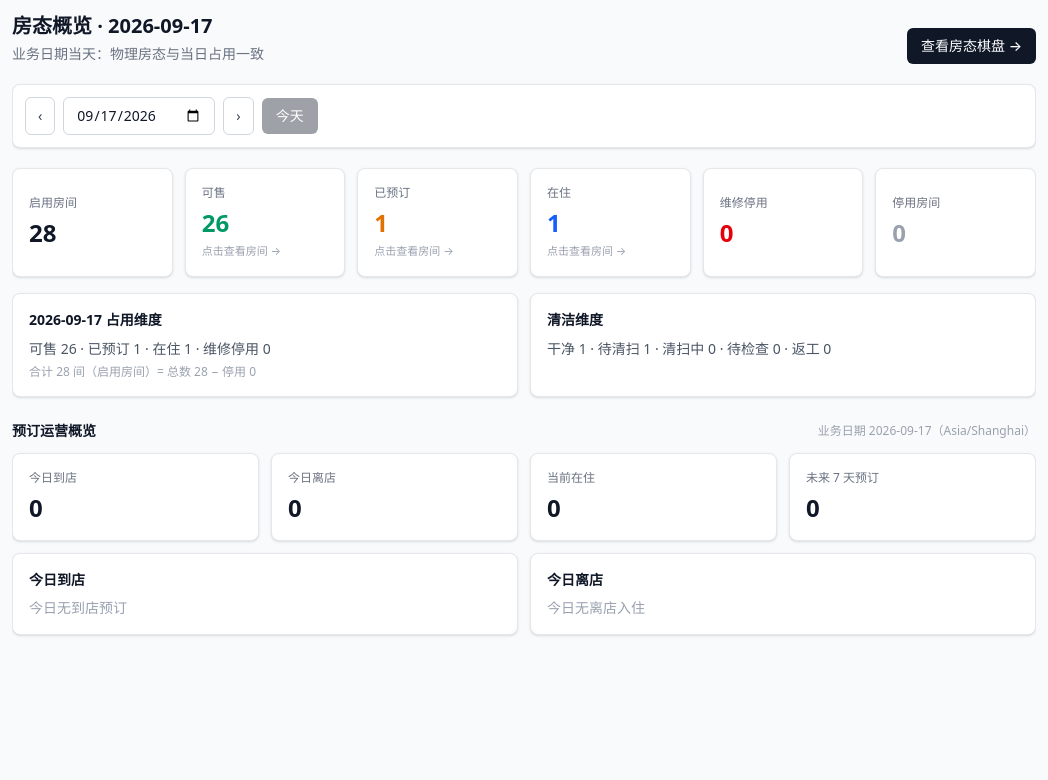
it: DashboardView 按日期房态（alpha.9.6 F2） › 点击分类卡片钻取对应房间列表（到店日标记「今日到店」）
Click the button "已预订 1 点击查看房间 →": (438, 222) [357,168,518,276]
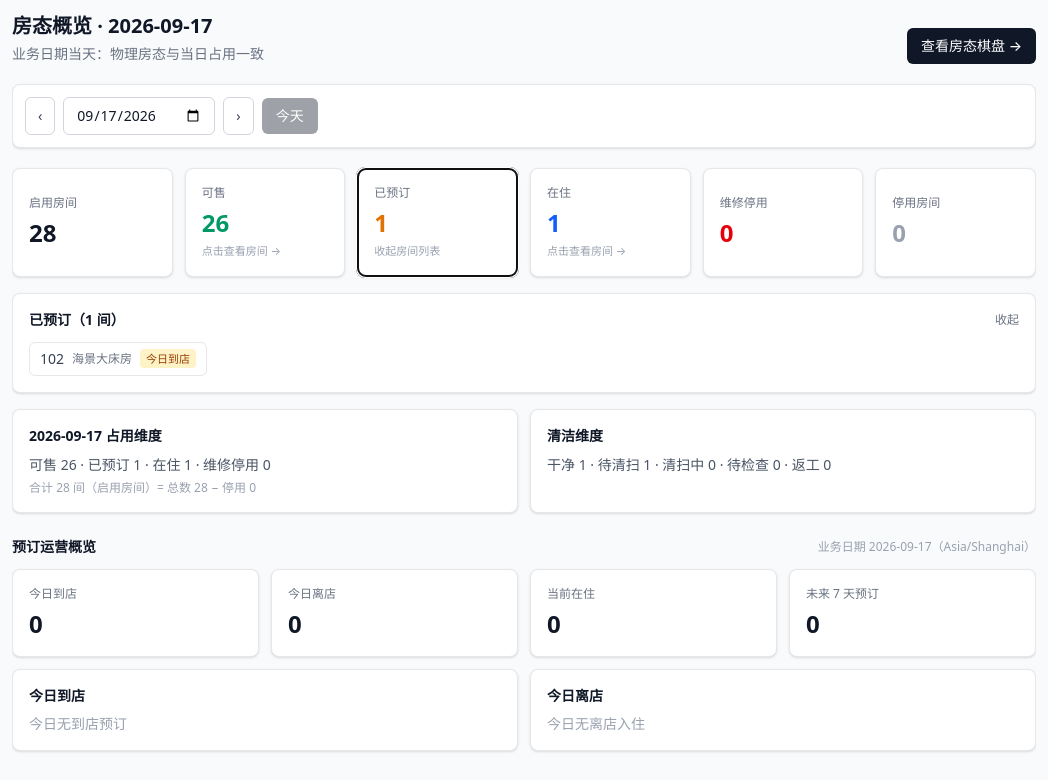
expect the heading "已预订（1 间）" is shown: met, box [29,310,125,330]
expect the text "今日到店" next to "海景大床房" is shown: met, box [146,351,190,366]
